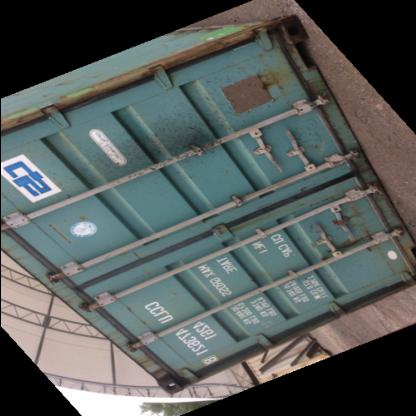Damage: (89, 107, 209, 188), (292, 113, 323, 160), (330, 206, 361, 236)
